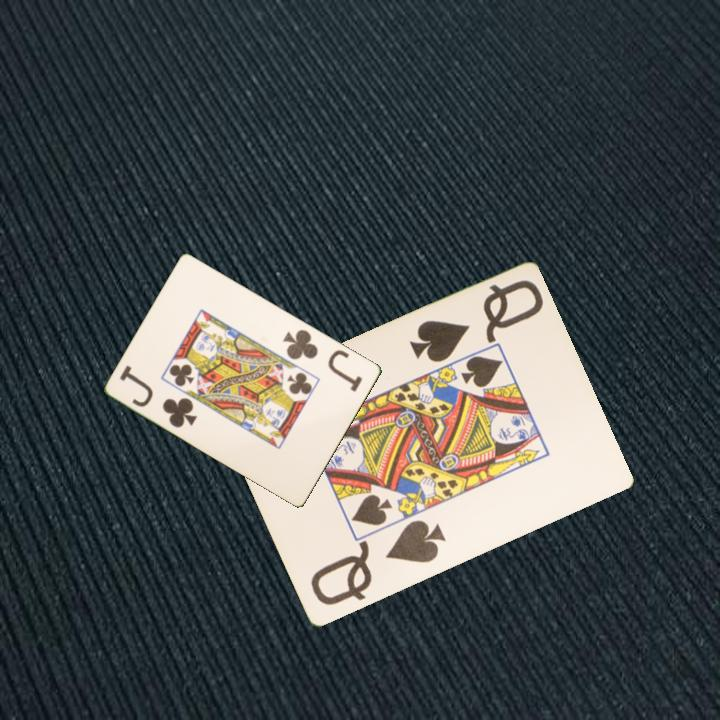Jc: (280, 325, 366, 395), (116, 361, 201, 431)
Qs: (306, 516, 449, 609), (406, 276, 546, 366)
